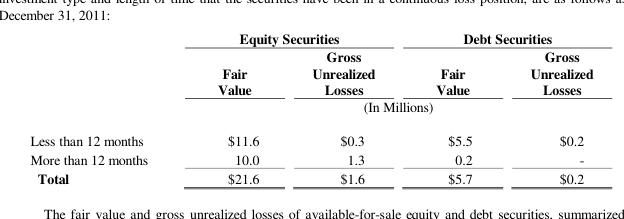table: (29, 28, 592, 188)
table column: (29, 28, 182, 188), (284, 28, 404, 188), (182, 28, 284, 188), (404, 28, 500, 188), (500, 28, 592, 188)
table column header: (29, 28, 592, 122)
table row: (29, 47, 592, 97), (29, 122, 592, 148), (29, 97, 592, 122), (29, 167, 592, 188), (29, 28, 592, 47), (29, 148, 592, 167)
table spanning cell: (182, 97, 592, 122), (182, 28, 404, 47), (404, 28, 592, 47)
